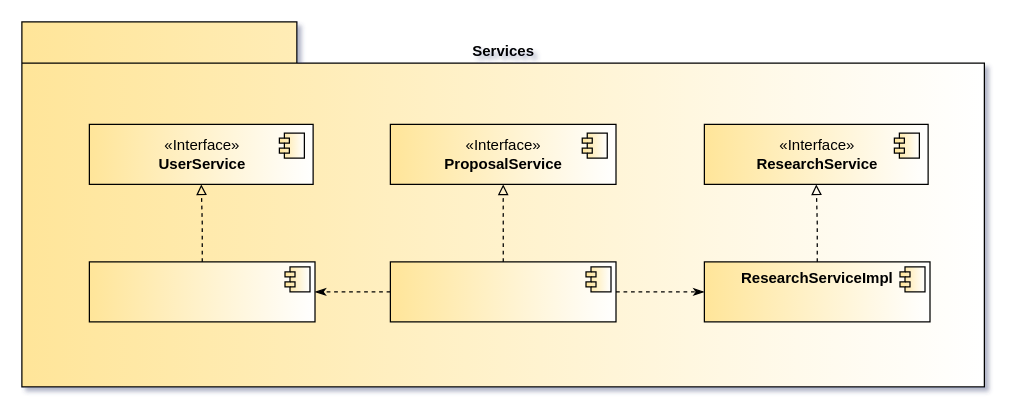
This 1014x416 diagram has some shape labels left out. The shapes that lost their labels are listed below. From the top down, each one's centre as x and y in pixels, then its label:
(201,291): UserServiceImpl
(502,291): ProposalServiceImpl
